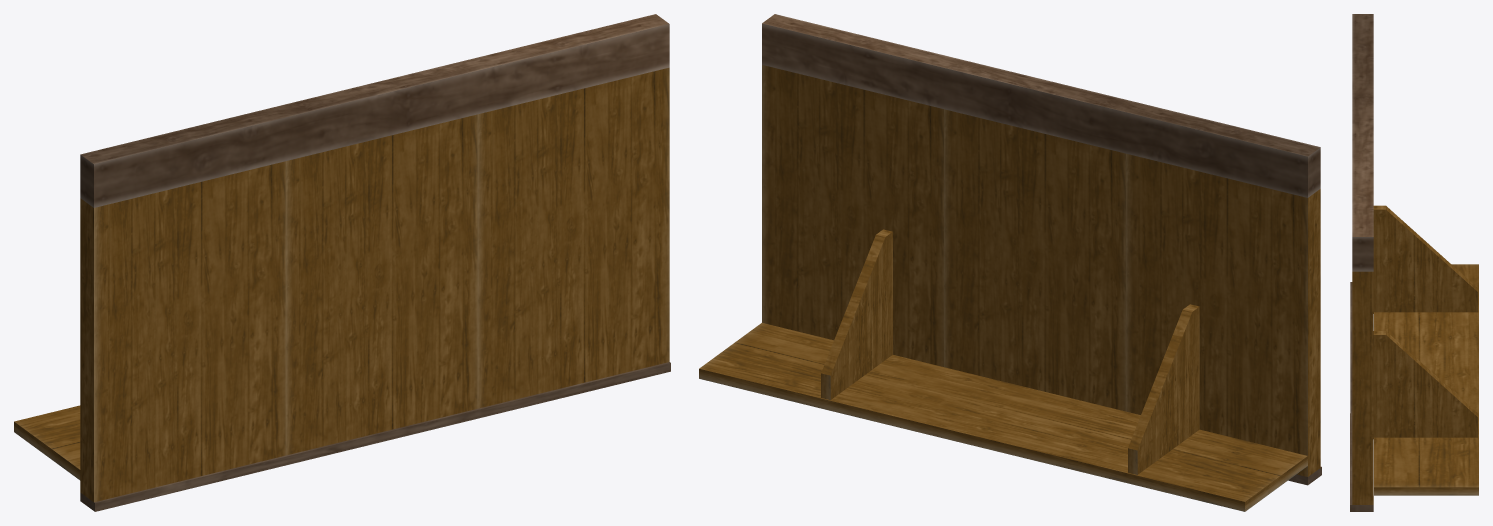
Rendered from kitcentop01a.fbx.
3 views of the same model, side by side, from view 1: azimuth 30°, elevation 25°; view 2: azimuth 150°, elevation 25°; view 3: azimuth 270°, elevation 25° (orthographic). The views are drawn at different scales.
Parts seen in each view (by area): view 1: kitcentop01a; view 2: kitcentop01a; view 3: kitcentop01a.
Part boxes in pixels (x1,y1,x2,y2): kitcentop01a: [14, 14, 670, 511]; kitcentop01a: [699, 14, 1321, 511]; kitcentop01a: [1350, 14, 1478, 511].
Bounding box in the file's own units: 1.85 × 1.07 × 0.453.
